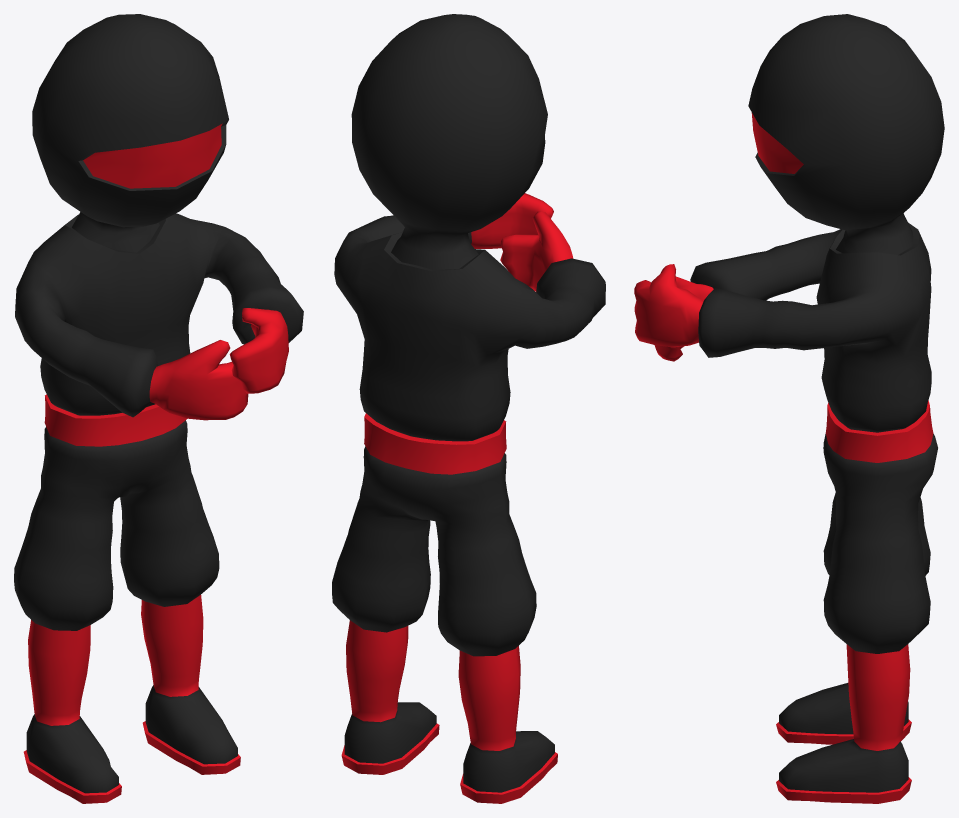
The model's file is nija enemy.fbx.
The picture shows the model from 3 angles, left to right: view 1: azimuth 30°, elevation 25°; view 2: azimuth 150°, elevation 25°; view 3: azimuth 270°, elevation 25°; orthographic projection.
Visible parts, largest first — view 1: enemy; view 2: enemy; view 3: enemy.
Part boxes in pixels (x1,y1,x2,y2): enemy: (14, 14, 303, 803); enemy: (332, 14, 605, 803); enemy: (634, 14, 944, 803).
Size of the model in its own units: 123 by 388 by 147.
